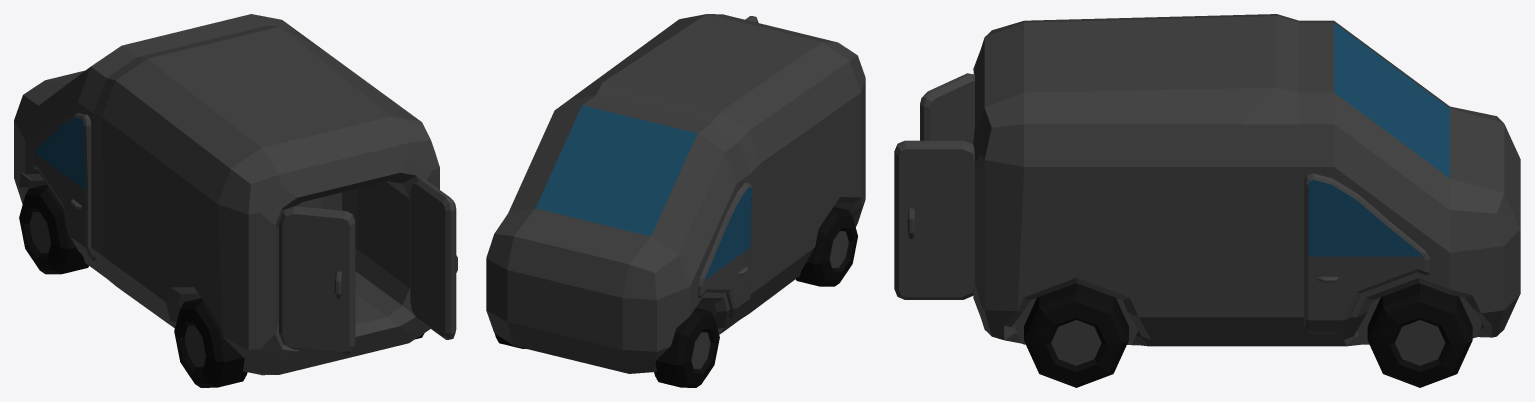
The model's file is Van.fbx.
The picture shows the model from 3 angles, left to right: view 1: azimuth 30°, elevation 25°; view 2: azimuth 150°, elevation 25°; view 3: azimuth 270°, elevation 25°; orthographic projection. The views are drawn at different scales.
Parts seen in each view (by area): view 1: Van, VanBackDoor2, VanBackDoor1; view 2: Van; view 3: Van, VanBackDoor1, VanBackDoor2.
Part boxes in pixels (<box>): Van: <box>14,14,439,387</box>; VanBackDoor2: <box>279,206,355,354</box>; VanBackDoor1: <box>410,178,457,339</box>; Van: <box>486,14,865,387</box>; Van: <box>973,14,1520,387</box>; VanBackDoor1: <box>894,140,974,299</box>; VanBackDoor2: <box>920,73,974,144</box>.
Bounding box in the file's own units: 1.97 × 2.06 × 4.15.
Materials: 1 (1 with a texture image).
